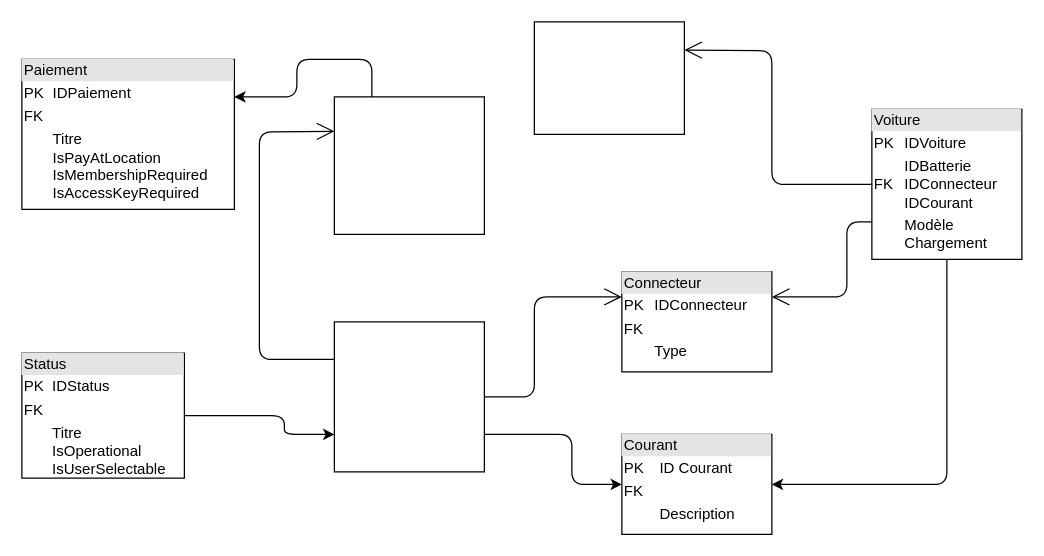
Image size: 1044x556. Some labels were removed from this diagram. Each missing label, with the box of its shape:
Batterie PK IDBatterie FK Capacité Autonomie: (533, 21, 684, 134)
Borne PK IDBorne FK IDStation IDConnecteur IDCourant IDStatus Puissance: (333, 321, 484, 472)
Station PK IDStation FK IDPaiement Latitude Longitude Adresse: (333, 96, 484, 234)
